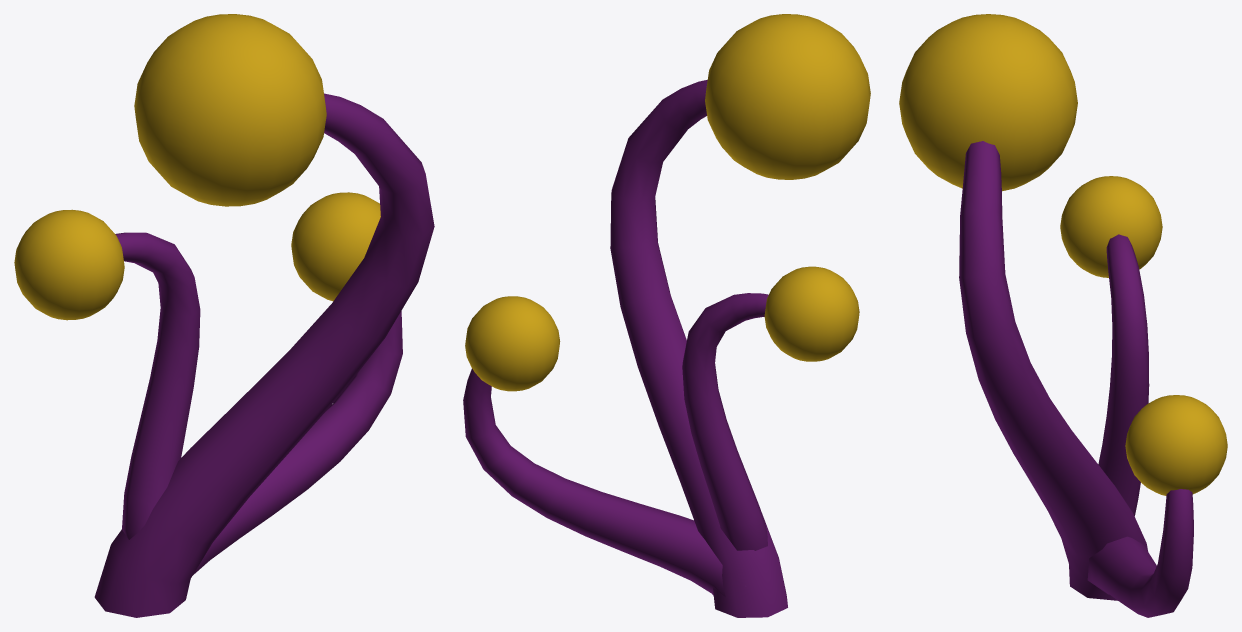
Rendered from tree_light_1.glb.
3 renders of one model, left to right at view 1: azimuth 30°, elevation 25°; view 2: azimuth 150°, elevation 25°; view 3: azimuth 270°, elevation 25°, orthographic. The views are drawn at different scales.
Visible parts, largest first — view 1: Tree_Light_1; view 2: Tree_Light_1; view 3: Tree_Light_1.
Part boxes in pixels (x1,y1,x2,y2): Tree_Light_1: (14,14,434,617); Tree_Light_1: (463,14,870,617); Tree_Light_1: (899,14,1227,617).
Bounding box in the file's own units: 2.63 × 3.76 × 1.96.
1 material, 1 textured.
